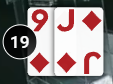9: (28, 8, 51, 34)
j: (55, 8, 78, 33)
